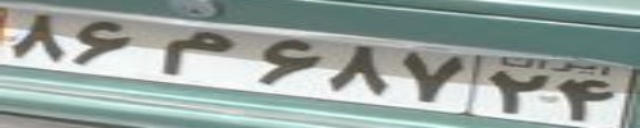2: (488, 70, 552, 115)
4: (555, 77, 612, 121)
6: (254, 38, 322, 84), (74, 19, 131, 65)
7: (401, 52, 465, 104)
8: (328, 43, 389, 95), (10, 12, 60, 61)
mim: (161, 28, 236, 76)
